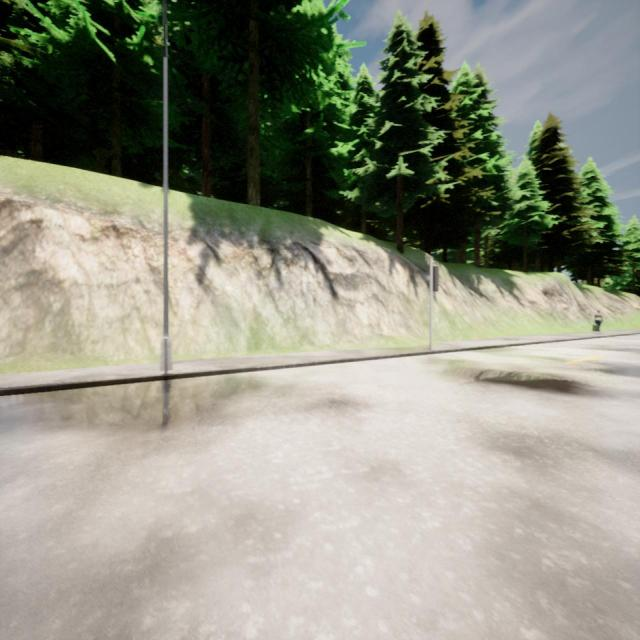Pedestrian: (594, 310, 603, 331)
traffic_light: (432, 266, 439, 291)
